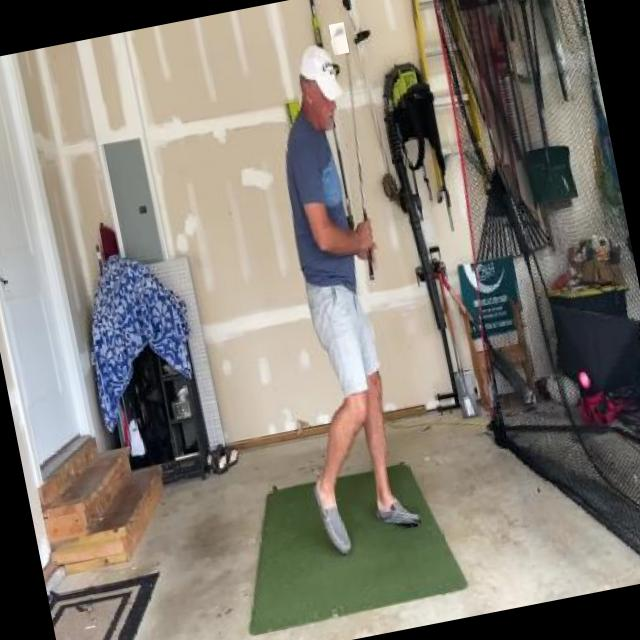club head: (328, 22, 349, 55)
